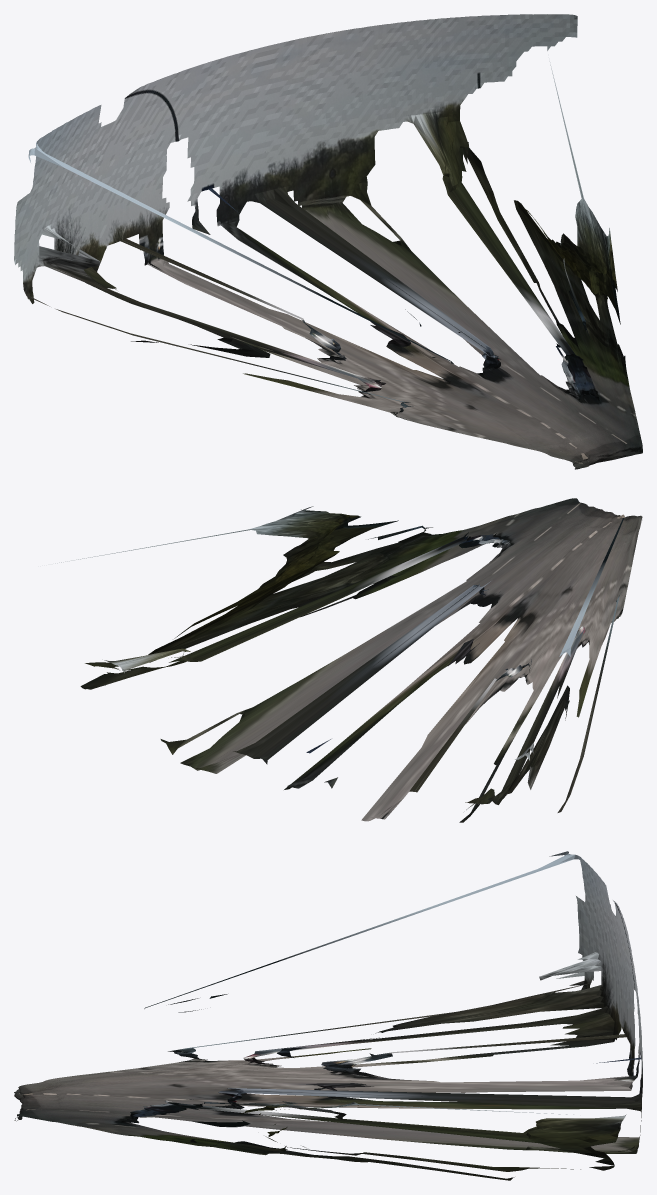
3 renders of one model, top to bottom at view 1: azimuth 30°, elevation 25°; view 2: azimuth 150°, elevation 25°; view 3: azimuth 270°, elevation 25°, orthographic. The views are drawn at different scales.
Parts seen in each view (by area): view 1: defaultobject; view 2: defaultobject; view 3: defaultobject.
Boxes of the visible parts, <box> form: defaultobject: <box>14,14,642,469</box>; defaultobject: <box>55,498,642,822</box>; defaultobject: <box>14,851,642,1180</box>.
Bounding box in the file's own units: 40.94 × 13.56 × 44.43.
1 material, 1 textured.
